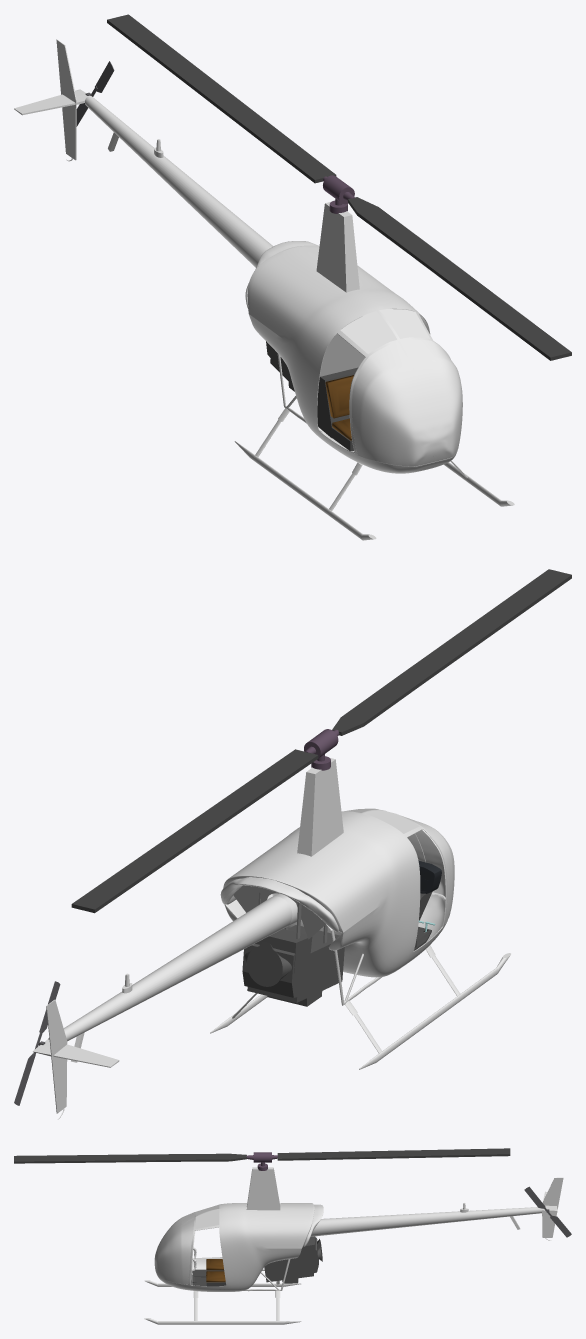
File: helicopter.fbx
The picture shows the model from 3 angles, top to bottom: view 1: azimuth 30°, elevation 25°; view 2: azimuth 150°, elevation 25°; view 3: azimuth 270°, elevation 25°; orthographic projection. The views are drawn at different scales.
Visible parts, largest first — view 1: top right glass.001, fuselage april rework.004, Cube.028, tail.001, rotor shaft housing.002, Cylinder.043, Cube.016, Cube.031, fuselage april rework.005, Cube.029; view 2: fuselage april rework.004, Cube.028, tail.001, eng.007, rotor shaft housing.002, Cylinder.043, top right glass.001, fuselage extension piece.001, Cube.016, fuselage april rework.006, Cube.015; view 3: fuselage april rework.004, Cube.028, tail.001, top right glass.001, eng.007, Cylinder.043, rotor shaft housing.002, Cube.016, Cube.030, rear rotor.001, Cube.031, fuselage extension piece.001.
Boxes of the visible parts, x1,y1,x2,y2 form: top right glass.001: (340,308,462,466); fuselage april rework.004: (247,245,457,473); Cube.028: (107,14,571,360); tail.001: (85,96,273,267); rotor shaft housing.002: (316,202,359,292); Cylinder.043: (234,353,514,540); Cube.016: (56,39,76,160); Cube.031: (317,367,357,452); fuselage april rework.005: (320,334,364,376); Cube.029: (325,375,353,418); fuselage april rework.004: (223,809,447,977); Cube.028: (71,569,571,913); tail.001: (48,893,301,1041); eng.007: (242,925,344,1006); rotor shaft housing.002: (297,758,343,856); Cylinder.043: (210,924,510,1069); top right glass.001: (344,808,454,923); fuselage extension piece.001: (220,877,338,931); Cube.016: (46,999,67,1113); fuselage april rework.006: (233,885,325,939); Cube.015: (53,1044,119,1067); fuselage april rework.004: (158,1203,314,1291); Cube.028: (14,1148,510,1163); tail.001: (310,1207,541,1236); top right glass.001: (154,1204,219,1284); eng.007: (264,1236,322,1283); Cylinder.043: (144,1259,301,1324); rotor shaft housing.002: (246,1167,280,1210); Cube.016: (542,1177,563,1237); Cube.030: (206,1259,225,1282); rear rotor.001: (524,1186,571,1237); Cube.031: (191,1269,226,1286); fuselage extension piece.001: (303,1204,323,1246).
Size of the model in its own units: 67.04 by 124 by 405.
